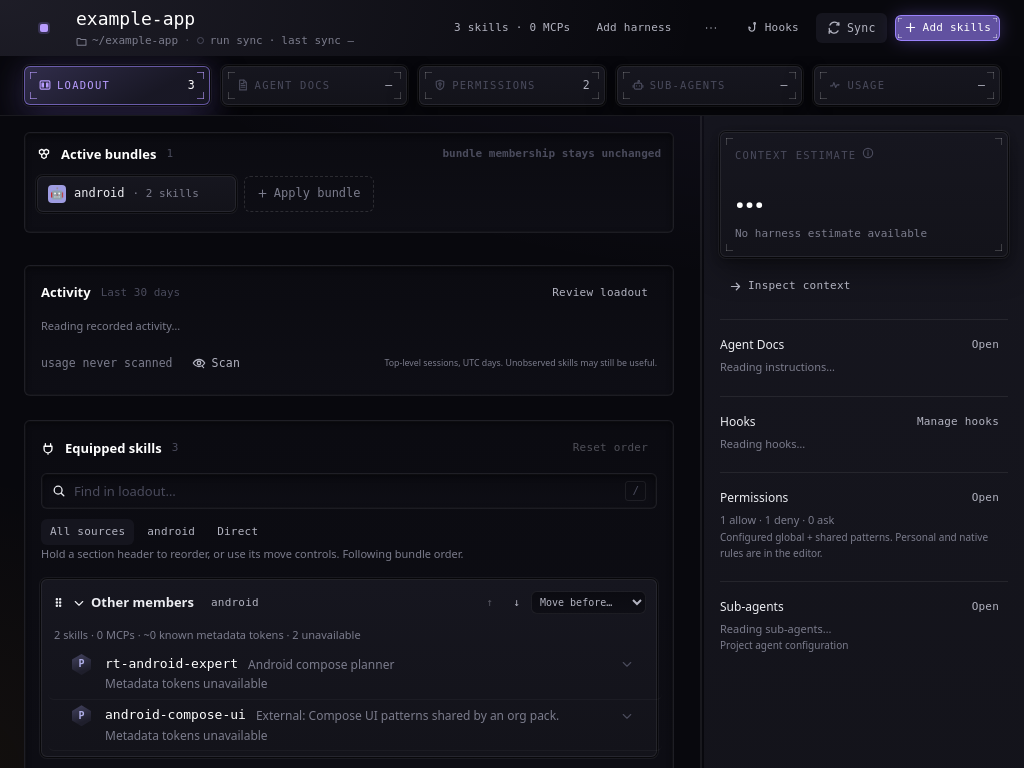
Test: AvailableSkillsPanel row anatomy (B1) › sets aria-busy on the row and cycles the equip copy while equipping
Click the button "Add skills".
click(947, 28)  # box [895, 15, 1000, 41]
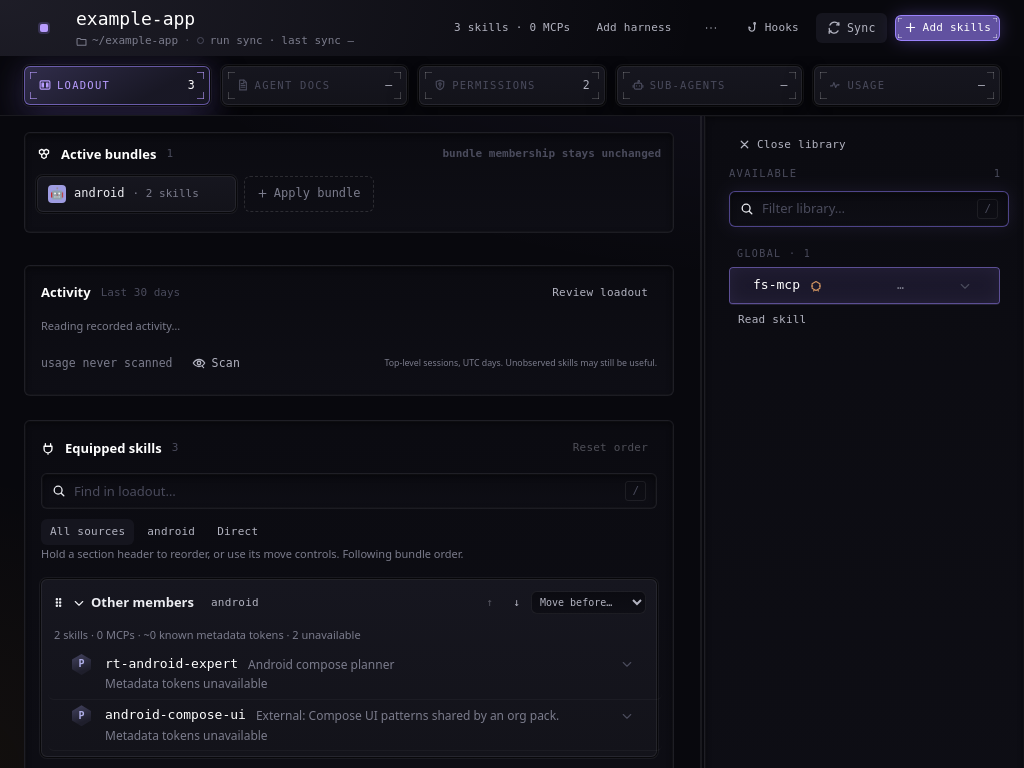
Click the button with aria-label "Equip fs-mcp".
click(776, 285)  # box [729, 267, 1000, 305]
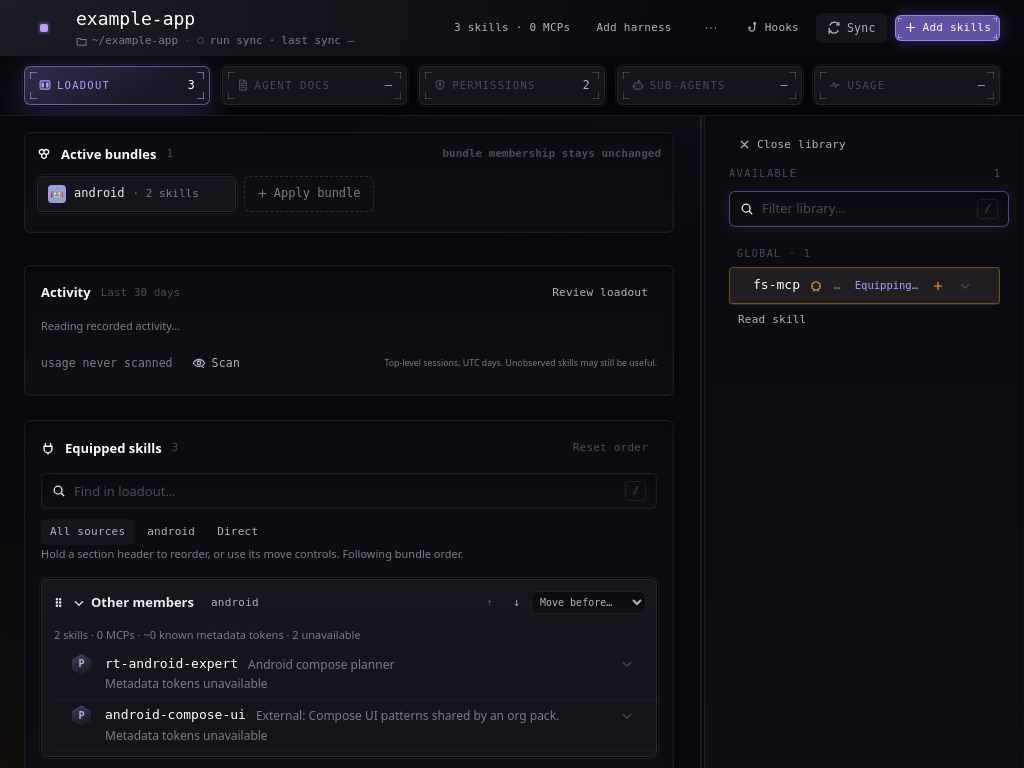
Expected: the text "Equipping…" is shown, [855, 278, 918, 293]
